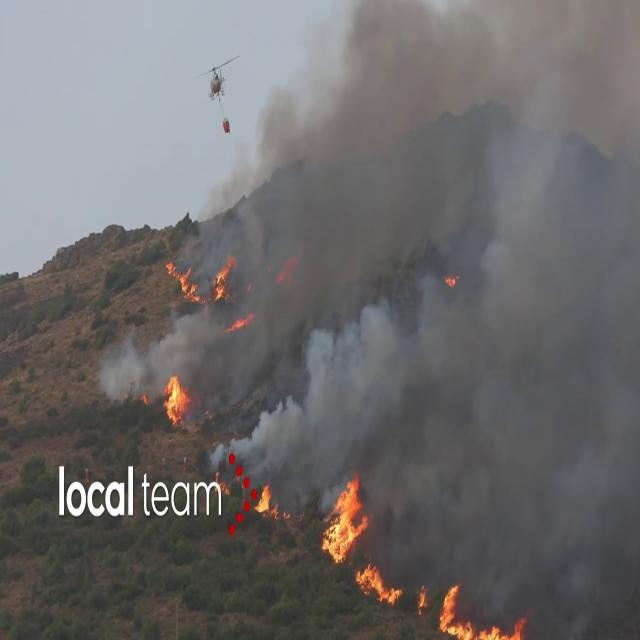Fire: (436, 580, 532, 639), (320, 474, 370, 568), (165, 250, 239, 304), (354, 558, 402, 606), (161, 368, 191, 424), (210, 250, 238, 302), (248, 477, 276, 520)
Smoke: (206, 0, 640, 607)
